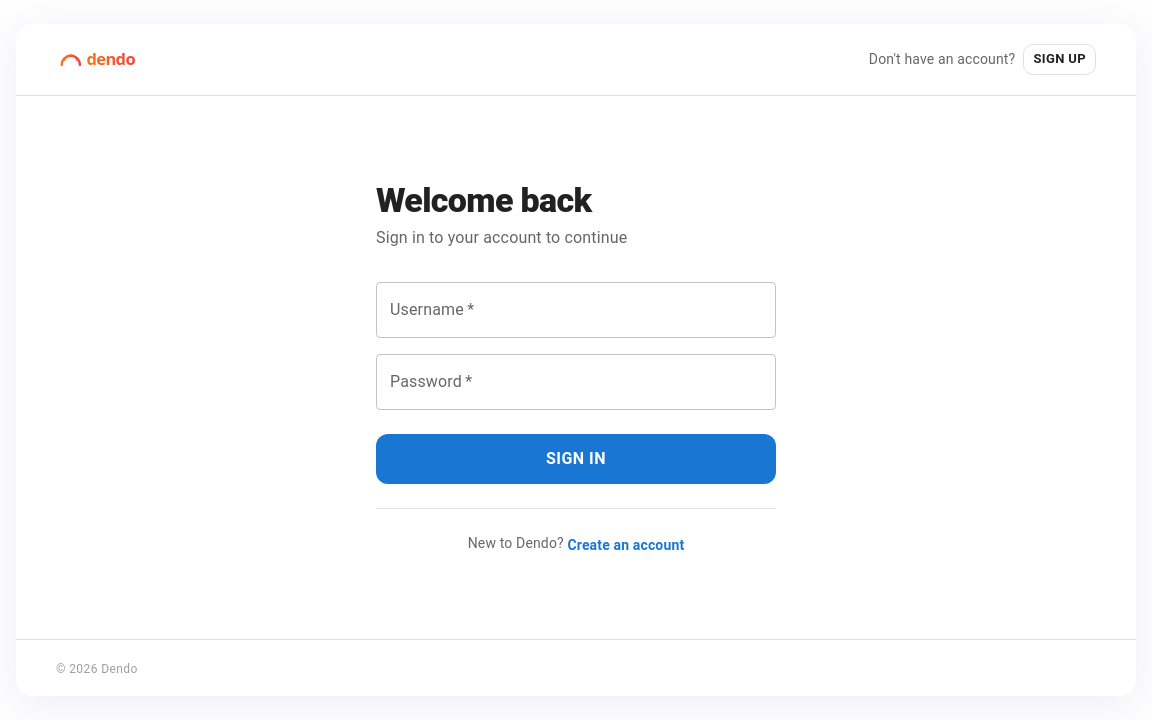
it: LoginPage › disables the button while submitting
Type "admin" into the field labelled "Username *". click: (576, 310)
box: [376, 282, 776, 338]
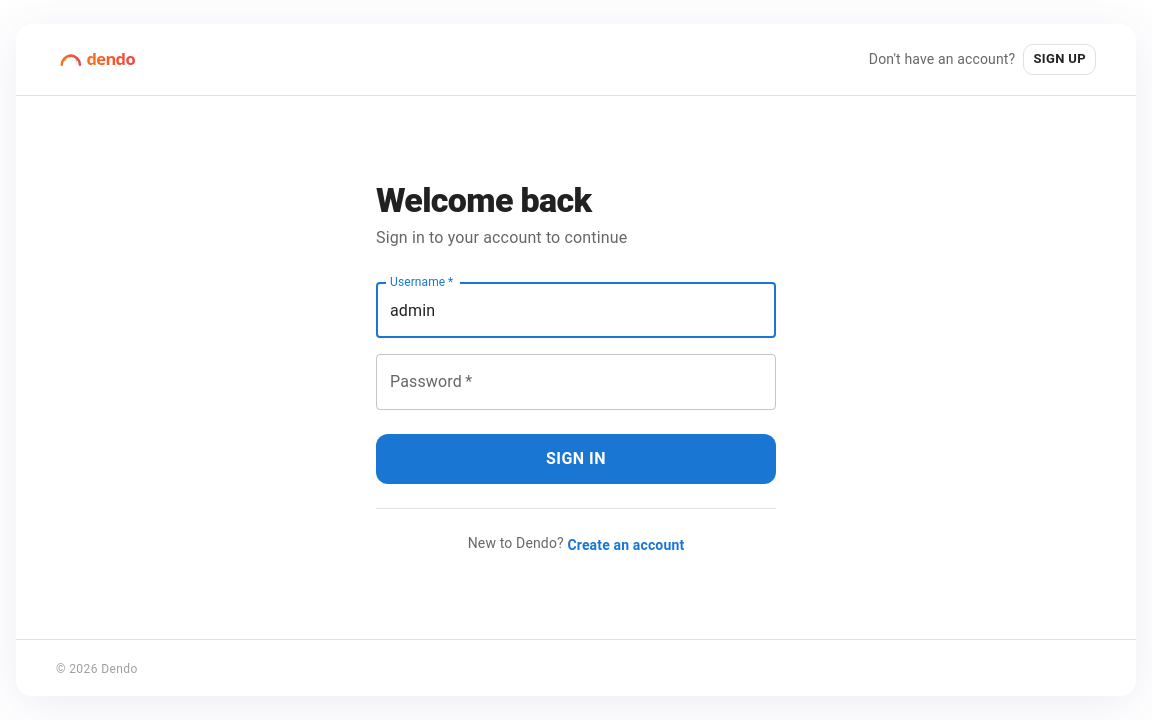
Type "pass" into the password field labelled "Password *". click: (576, 382)
box: [376, 354, 776, 410]
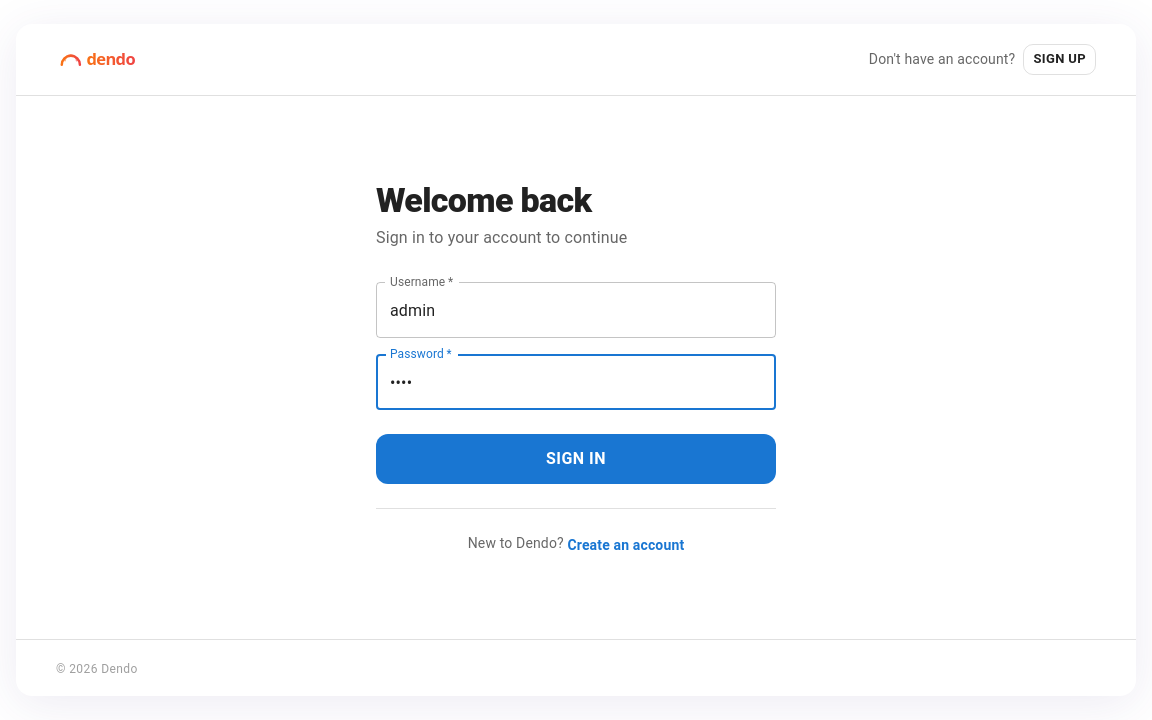
Click the button "Sign in". click: (576, 459)
box: [376, 434, 776, 484]
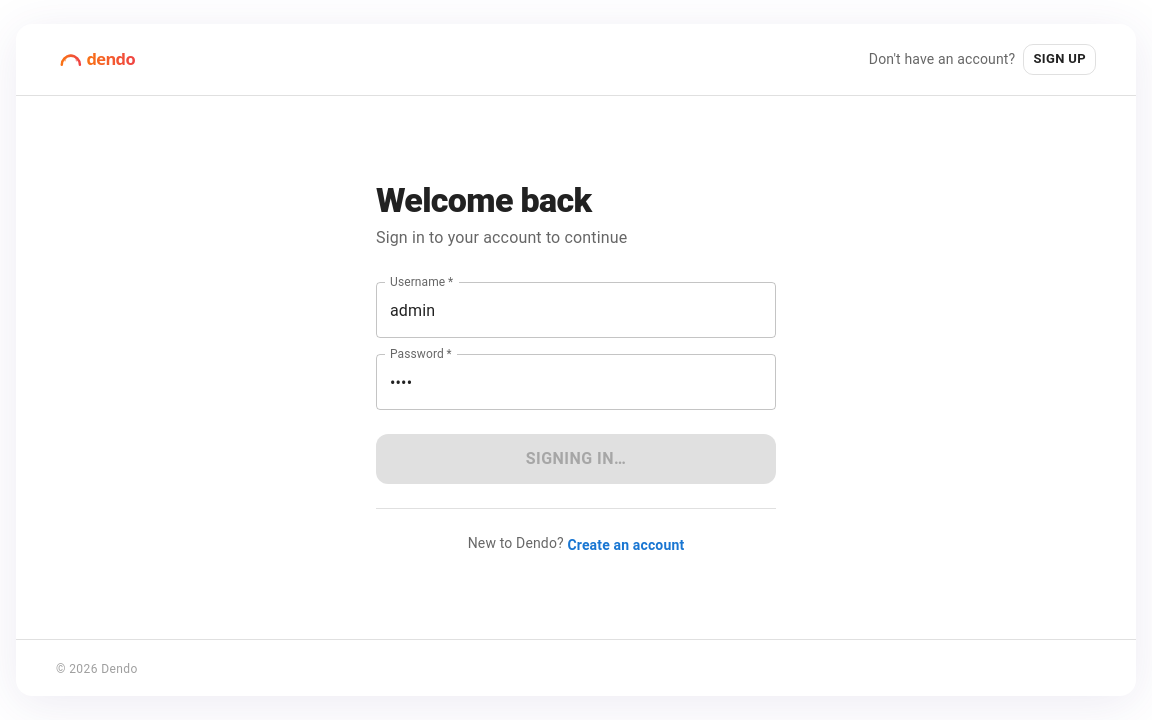
Result: the button "Signing in…" is disabled at [376, 434, 776, 484]
